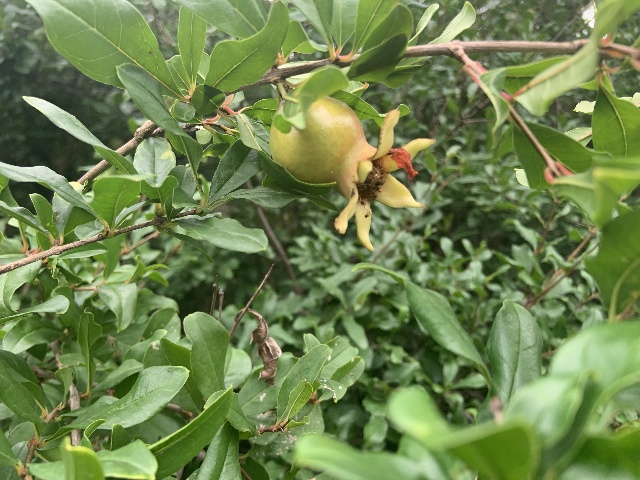early-fruit: (268, 95, 434, 251)
